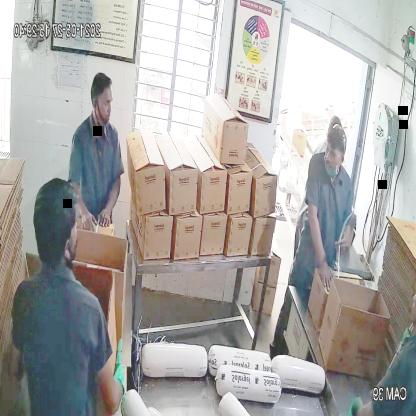no_goggles: (321, 142, 350, 164), (93, 93, 115, 112)
